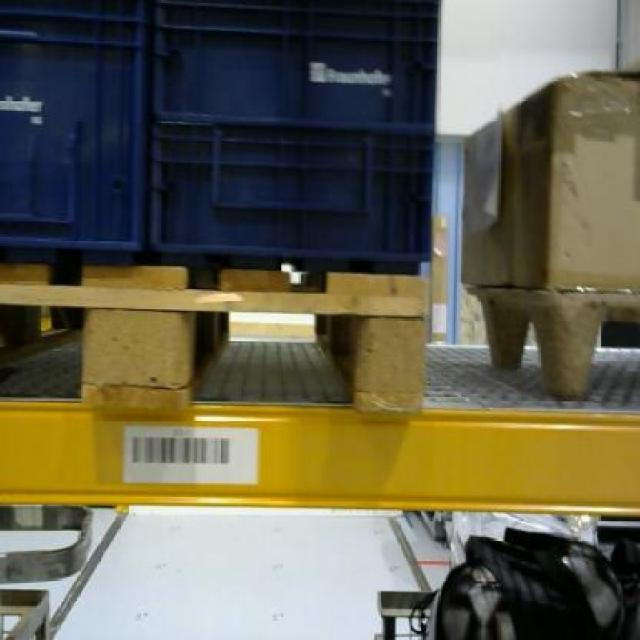box: (460, 68, 638, 289)
